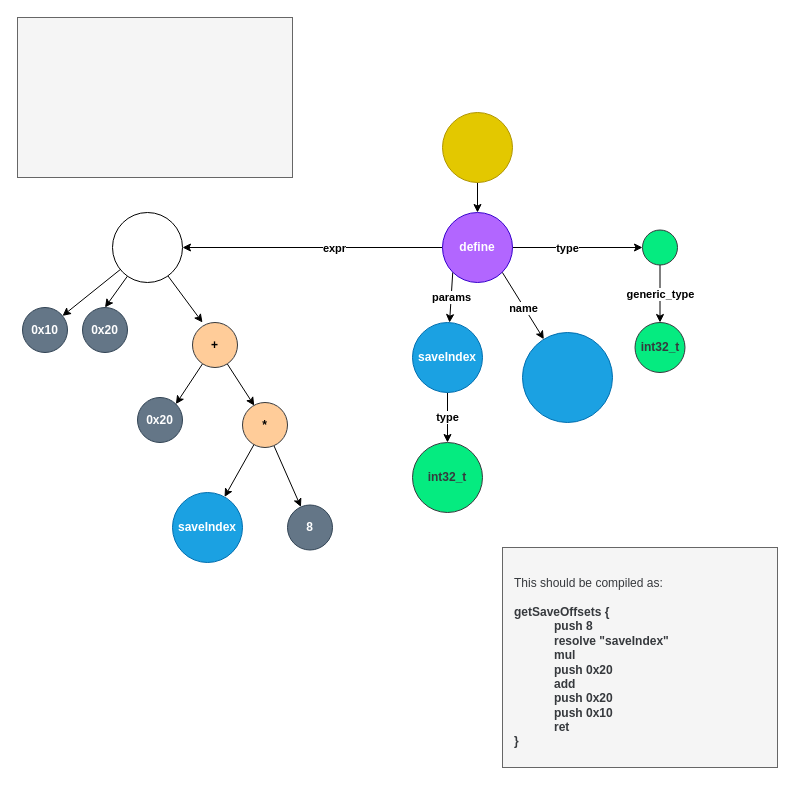
Some shapes in this 795 by 785 pixel diagram are drawn without their labels. The centre of each missing label's shape, as x and y in pixels:
"array" goes at [147,247].
"getSaveOffsets" goes at [567,377].
"main.mn" goes at [477,147].
"MNEMO This is the AST for a dynamic array declaration" goes at [154,97].
"vec" goes at [660,247].
